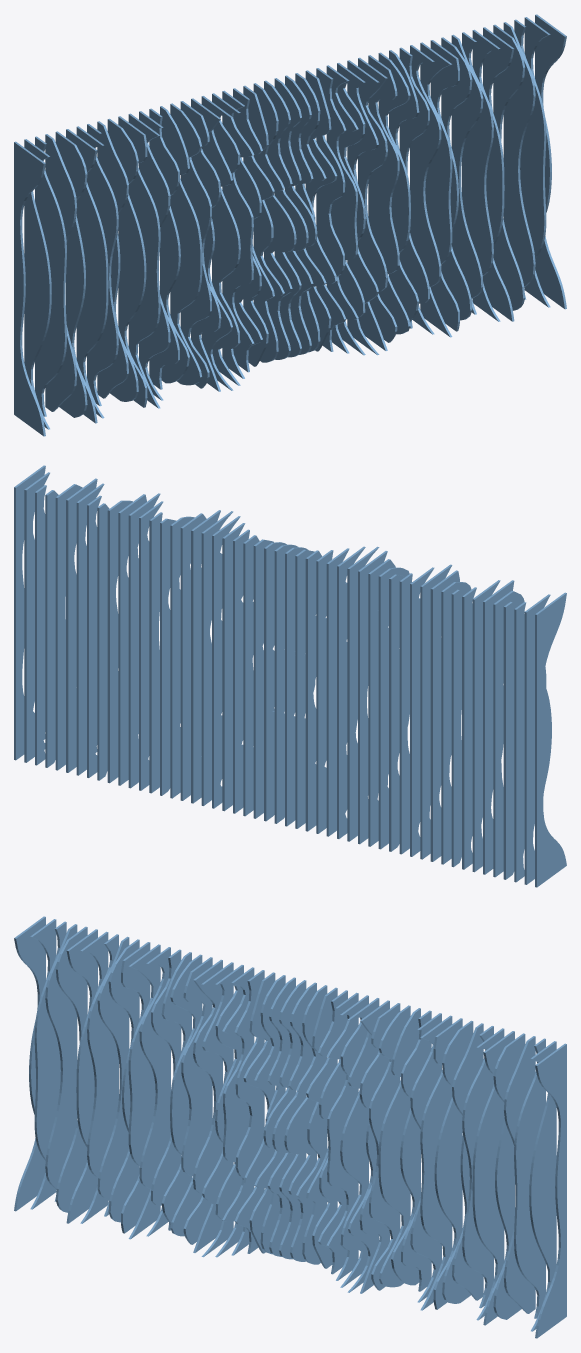
File: mod500-250-50-50.glb
3 views of the same model, one above another, from view 1: azimuth 30°, elevation 25°; view 2: azimuth 150°, elevation 25°; view 3: azimuth 330°, elevation 25° (orthographic).
Visible parts, largest first — view 1: no_transformations; view 2: no_transformations; view 3: no_transformations.
Boxes of the visible parts, left/top/right/bottom form: no_transformations: left=14, top=14, right=566, bottom=436; no_transformations: left=14, top=465, right=566, bottom=887; no_transformations: left=14, top=916, right=566, bottom=1338.
Size of the model in its own units: 502 by 250 by 53.3.
